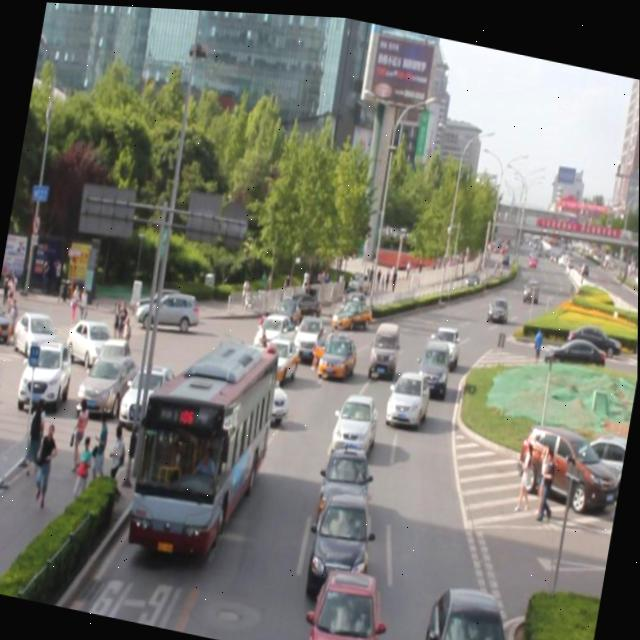car: (418, 575, 526, 640), (304, 558, 387, 640), (308, 487, 373, 590), (316, 437, 374, 527), (232, 355, 296, 429), (330, 385, 380, 454), (383, 363, 432, 428), (257, 327, 308, 381), (214, 330, 259, 391), (318, 319, 364, 376), (413, 332, 452, 397), (288, 303, 330, 361), (335, 282, 380, 328), (253, 307, 292, 355), (425, 318, 462, 365)
truck: (366, 314, 403, 378)
van: (125, 321, 281, 560)
